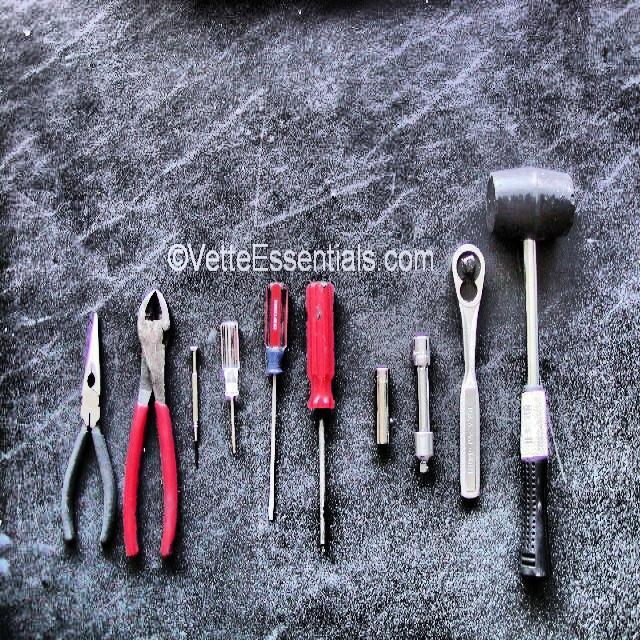screwdriver: (306, 282, 336, 556), (264, 282, 290, 522), (220, 322, 240, 457)
